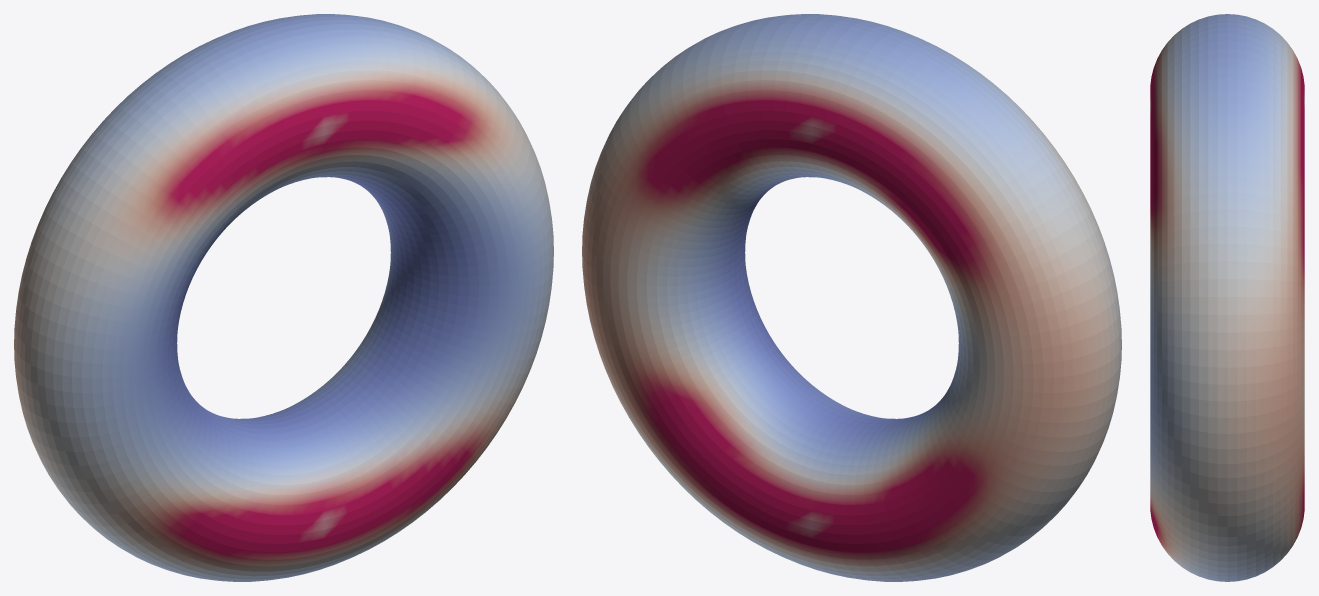
3 renders of one model, left to right at view 1: azimuth 30°, elevation 25°; view 2: azimuth 150°, elevation 25°; view 3: azimuth 270°, elevation 25°, orthographic. The views are drawn at different scales.
Parts seen in each view (by area): view 1: world; view 2: world; view 3: world.
Boxes of the visible parts, box(x1,y1,x2,y2) form: world: box(14, 14, 553, 581); world: box(582, 14, 1121, 581); world: box(1150, 14, 1304, 581).
Size of the model in its own units: 22 by 22 by 5.99.
